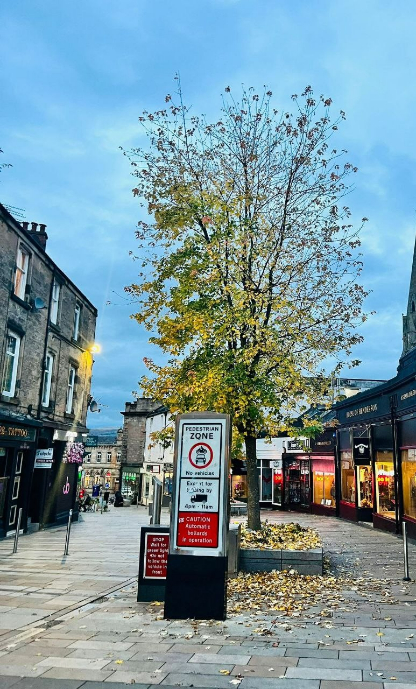tree: (105, 47, 375, 525)
